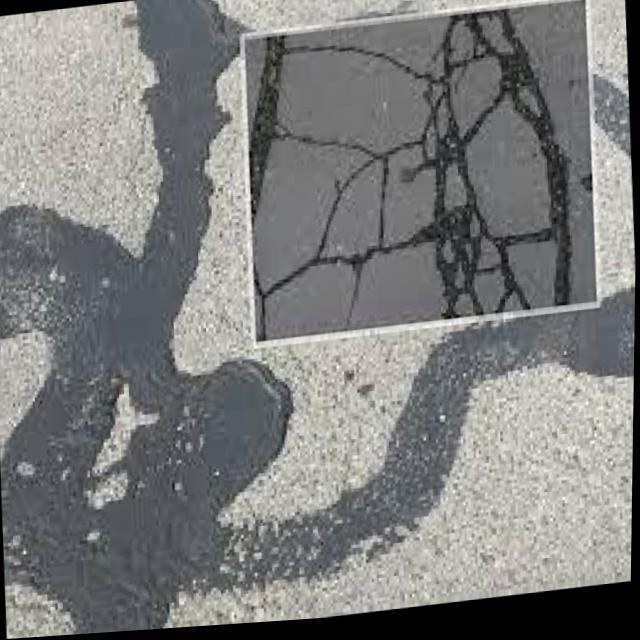Crack: (325, 37, 571, 311)
